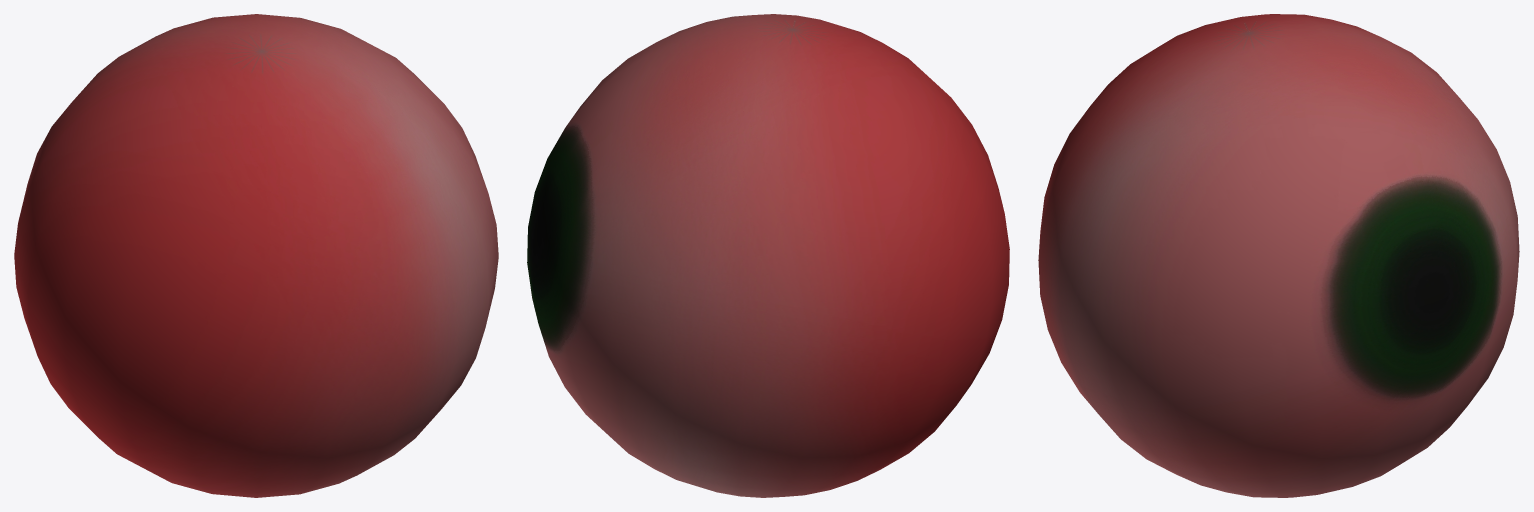
File: RedEyes.fbx
3 renders of one model, left to right at view 1: azimuth 30°, elevation 25°; view 2: azimuth 150°, elevation 25°; view 3: azimuth 270°, elevation 25°, orthographic.
Visible parts, largest first — view 1: pSphere2; view 2: pSphere2; view 3: pSphere2.
Part boxes in pixels (x1,y1,x2,y2): pSphere2: (14,14,498,497); pSphere2: (527,14,1009,497); pSphere2: (1038,14,1519,497).
Bounding box in the file's own units: 0.8233 × 0.8316 × 0.8245.
Materials: 1 (1 with a texture image).
